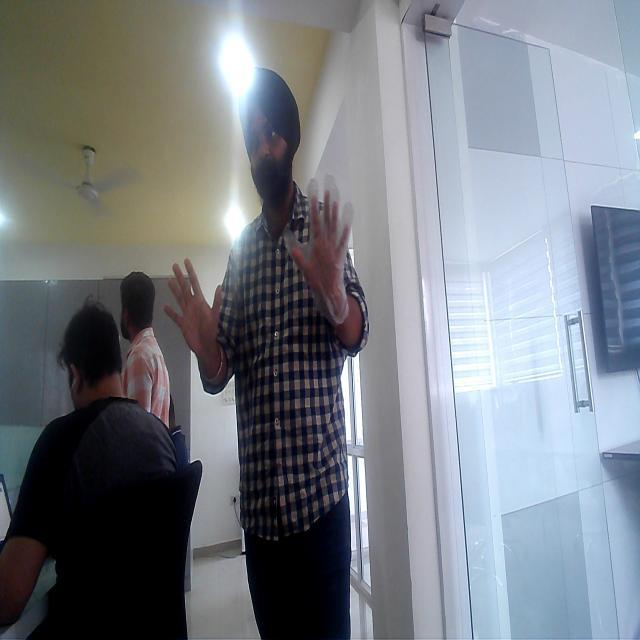with_gloves: (287, 180, 358, 304)
without_gloves: (165, 221, 238, 363)
